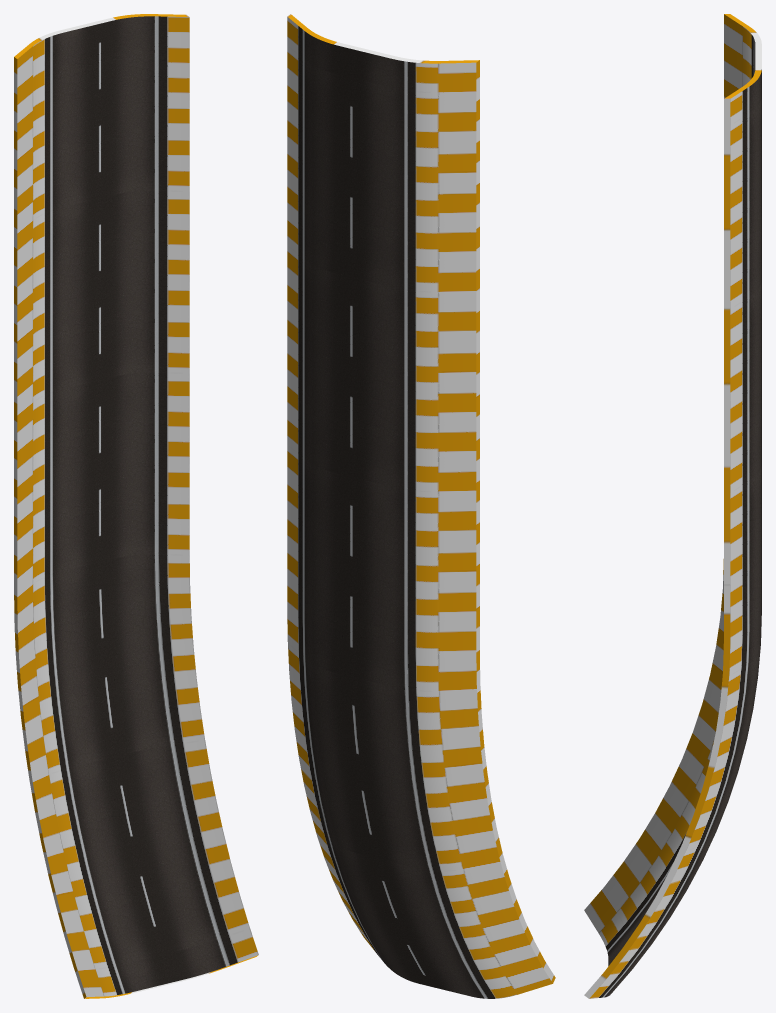
The model's file is Curved_Straight002__2_.fbx.
3 renders of one model, left to right at view 1: azimuth 30°, elevation 25°; view 2: azimuth 150°, elevation 25°; view 3: azimuth 270°, elevation 25°, orthographic. The views are drawn at different scales.
Visible parts, largest first — view 1: Curved_Straight002__2_; view 2: Curved_Straight002__2_; view 3: Curved_Straight002__2_.
Boxes of the visible parts, <box> form: Curved_Straight002__2_: <box>14,14,258,998</box>; Curved_Straight002__2_: <box>287,14,555,998</box>; Curved_Straight002__2_: <box>584,14,761,998</box>.
Bounding box in the file's own units: 6199 × 31231 × 5481.
1 material, 1 textured.
